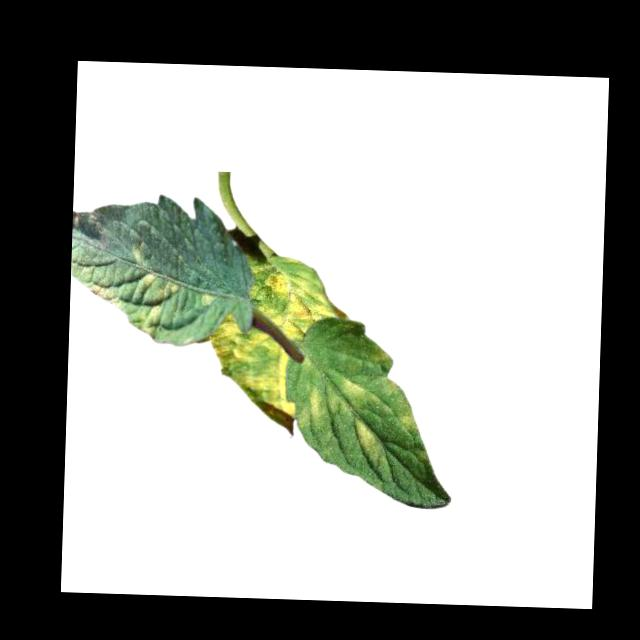Leaf_Mold: (207, 311, 300, 435), (242, 255, 346, 341), (86, 245, 182, 338), (296, 375, 376, 428), (351, 418, 382, 462), (388, 409, 420, 435)
